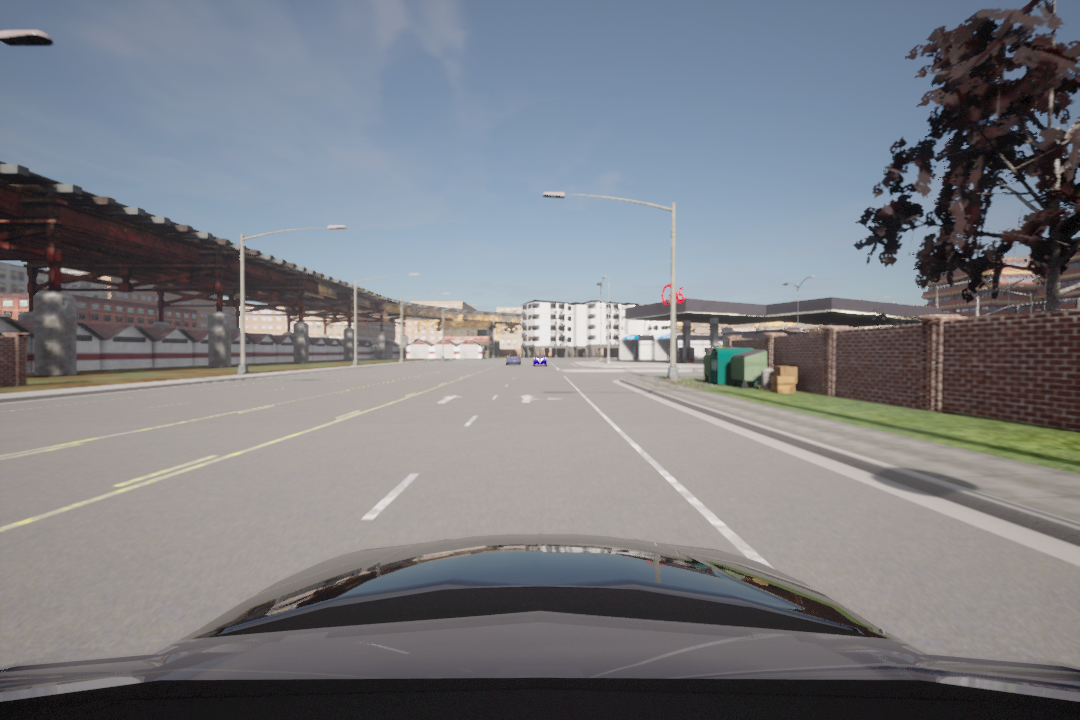RoadSign_forward: (437, 391, 461, 405)
RoadSign_forward_right: (514, 391, 565, 408)
